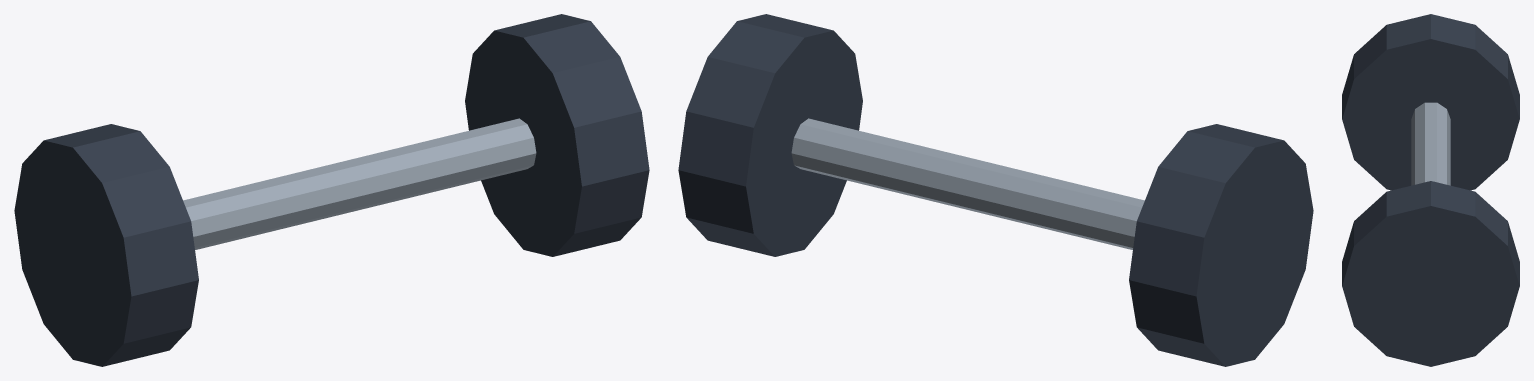
The model's file is Boxing_Dumbbell.fbx.
3 renders of one model, left to right at view 1: azimuth 30°, elevation 25°; view 2: azimuth 150°, elevation 25°; view 3: azimuth 270°, elevation 25°, orthographic. The views are drawn at different scales.
Visible parts, largest first — view 1: Dumbbell; view 2: Dumbbell; view 3: Dumbbell.
Part boxes in pixels (<box>): Dumbbell: <box>14,14,649,366</box>; Dumbbell: <box>678,14,1313,366</box>; Dumbbell: <box>1342,14,1519,366</box>.
Size of the model in its own units: 0.46 by 0.18 by 0.18.
